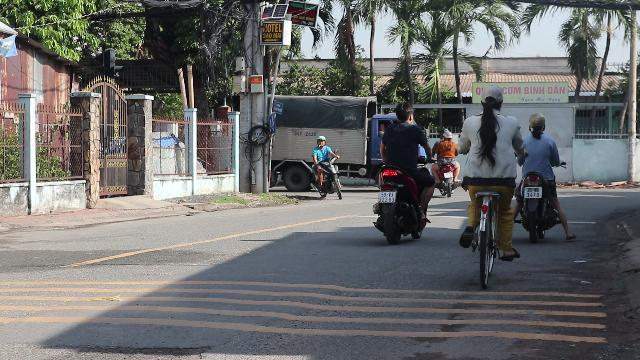helmet: (527, 112, 545, 134)
licenseplate: (378, 192, 396, 202), (525, 187, 541, 197)
motorcyclist: (370, 100, 434, 244), (510, 112, 570, 242)
nohelmet: (394, 102, 414, 122)
